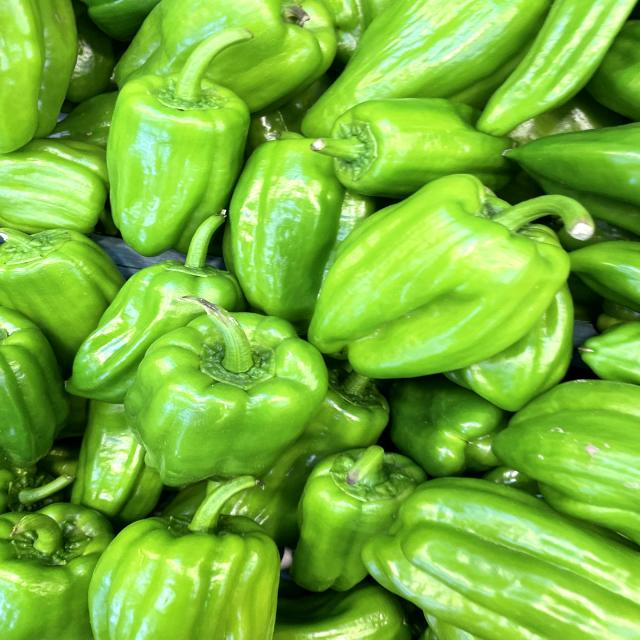bell pepper: (296, 156, 601, 384), (119, 284, 336, 489), (97, 22, 280, 261)
